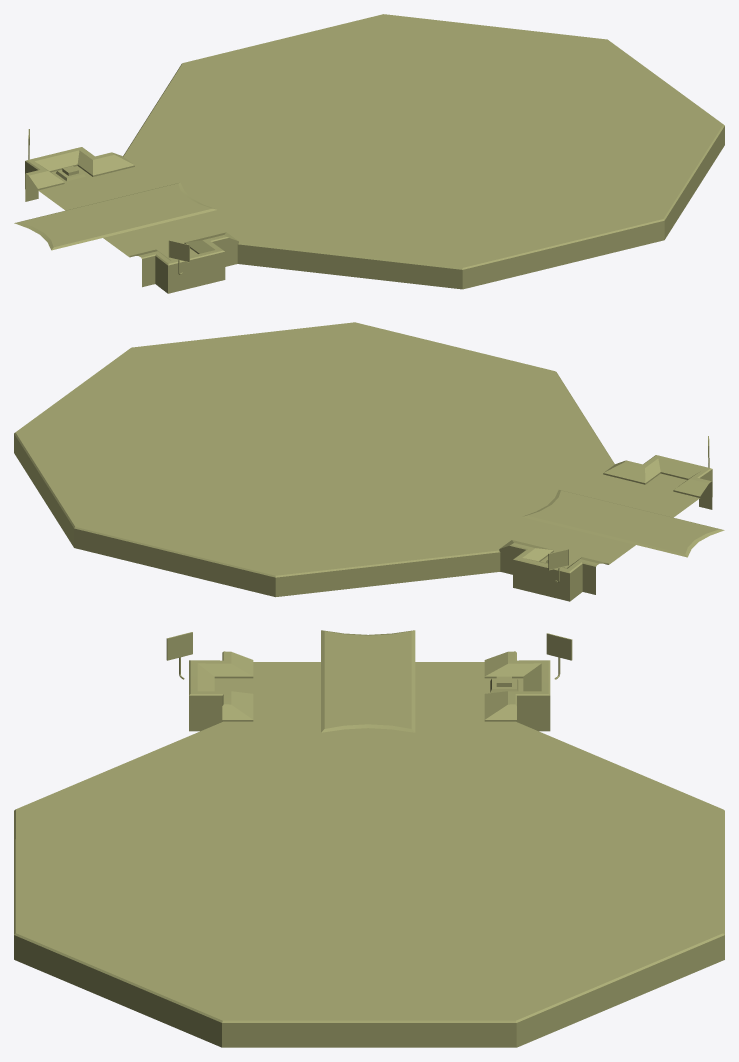
The model's file is BasePlatform.fbx.
3 renders of one model, top to bottom at view 1: azimuth 30°, elevation 25°; view 2: azimuth 150°, elevation 25°; view 3: azimuth 270°, elevation 25°, orthographic. The views are drawn at different scales.
Visible parts, largest first — view 1: polySurface227, polySurface214, most_dop, polySurface215; view 2: polySurface227, polySurface214, most_dop, polySurface215; view 3: polySurface227, polySurface214, most_dop, polySurface215, polySurface225.
Part boxes in pixels (bbox=[...]): polySurface227: bbox=[25, 14, 724, 293]; polySurface214: bbox=[66, 187, 199, 237]; most_dop: bbox=[14, 210, 102, 250]; polySurface215: bbox=[163, 182, 217, 213]; polySurface227: bbox=[14, 322, 712, 601]; polySurface214: bbox=[540, 494, 672, 544]; most_dop: bbox=[636, 517, 724, 557]; polySurface215: bbox=[522, 490, 575, 521]; polySurface227: bbox=[14, 651, 724, 1047]; polySurface214: bbox=[321, 660, 415, 721]; most_dop: bbox=[321, 630, 415, 661]; polySurface215: bbox=[321, 720, 415, 732]; polySurface225: bbox=[166, 632, 192, 679].
Bounding box in the file's own units: 3148 × 246 × 2417.
